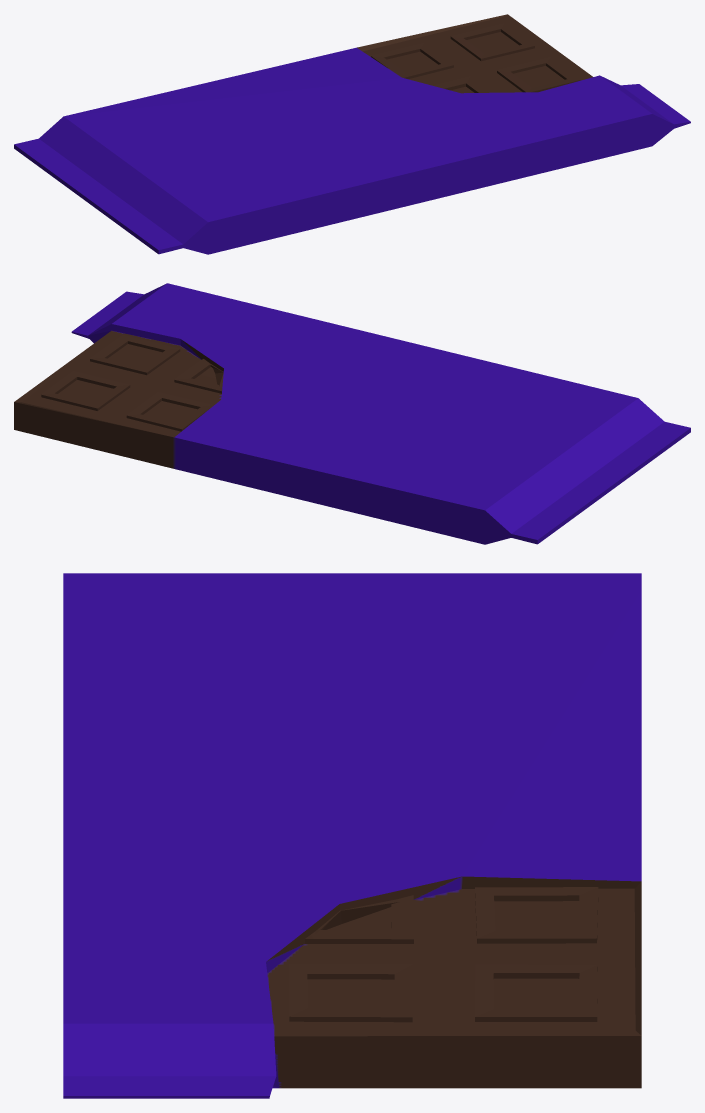
The model's file is Cioccolata.fbx.
3 views of the same model, one above another, from view 1: azimuth 30°, elevation 25°; view 2: azimuth 150°, elevation 25°; view 3: azimuth 270°, elevation 25° (orthographic). The views are drawn at different scales.
Parts seen in each view (by area): view 1: Cube; view 2: Cube; view 3: Cube.
Part boxes in pixels (left/top/right/bottom): Cube: left=14, top=14, right=690, bottom=254; Cube: left=14, top=283, right=690, bottom=544; Cube: left=63, top=573, right=641, bottom=1098.
Size of the model in its own units: 321 by 18.72 by 151.
